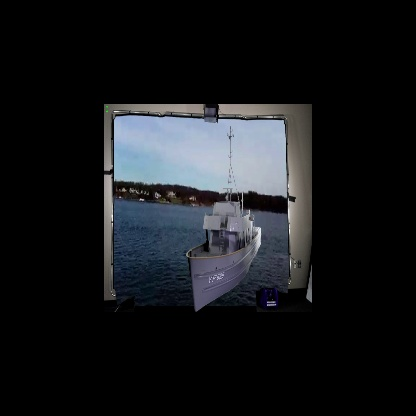YP689: (185, 128, 262, 311)
